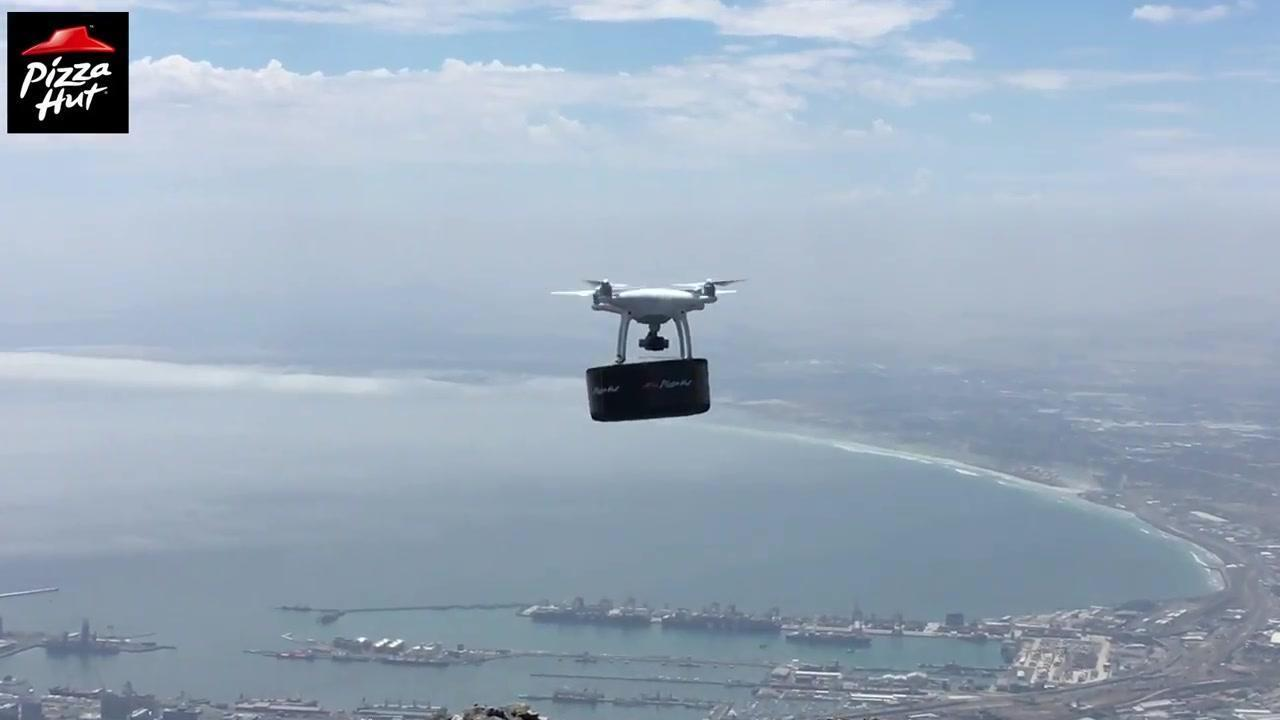UAV: (552, 279, 746, 365)
